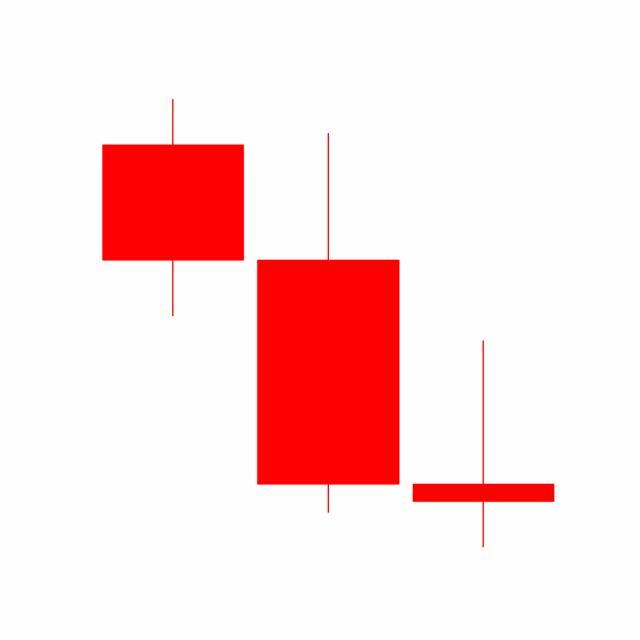Spinning Top: (406, 338, 562, 551)
